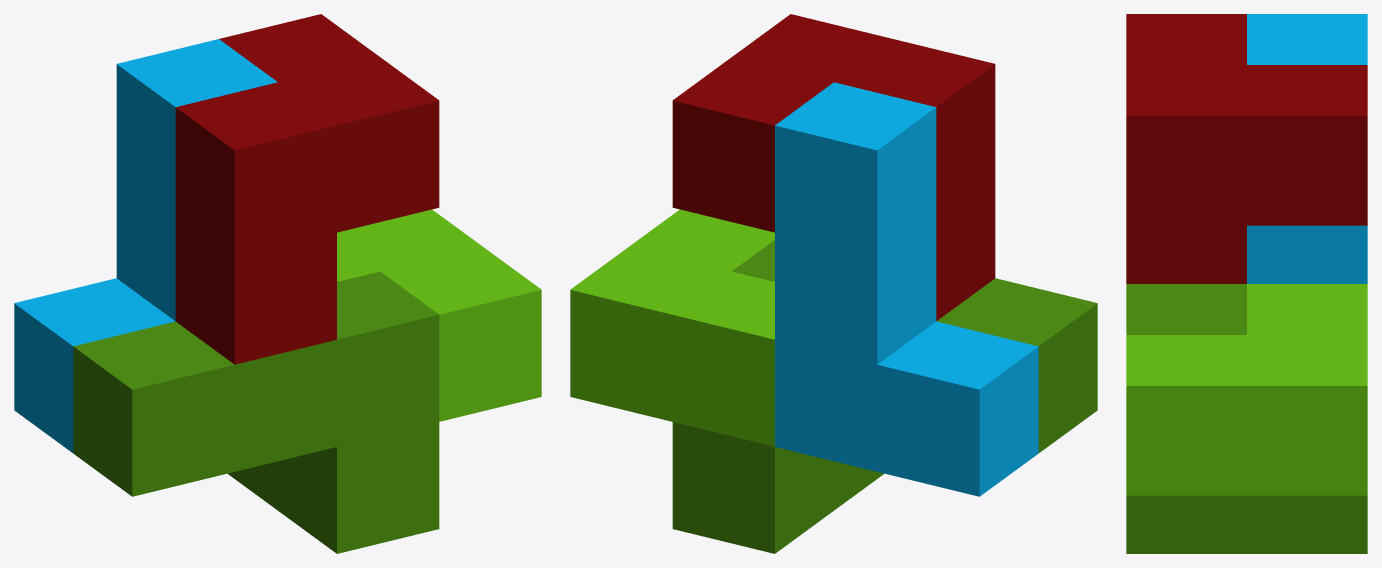
3 renders of one model, left to right at view 1: azimuth 30°, elevation 25°; view 2: azimuth 150°, elevation 25°; view 3: azimuth 270°, elevation 25°, orthographic. The views are drawn at different scales.
Visible parts, largest first — view 1: mergedBlocks(Clone); view 2: mergedBlocks(Clone); view 3: mergedBlocks(Clone).
Part boxes in pixels (<box>): mergedBlocks(Clone): <box>14,14,541,553</box>; mergedBlocks(Clone): <box>570,14,1097,553</box>; mergedBlocks(Clone): <box>1126,14,1367,553</box>.
Size of the model in its own units: 4 by 4 by 2.
4 materials, 4 textured.
